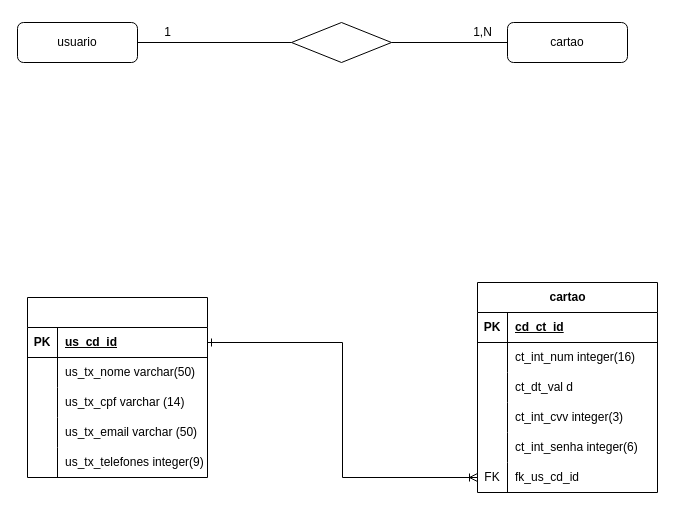
Image size: 675x510. Some labels were removed from this diagram. The shapes that lost their labels are listed below. From the top down, each one's box as (x1, y1, x2, y2) in pixels, then its label:
(290, 22, 392, 62): possui
(26, 296, 208, 478): usuarios
